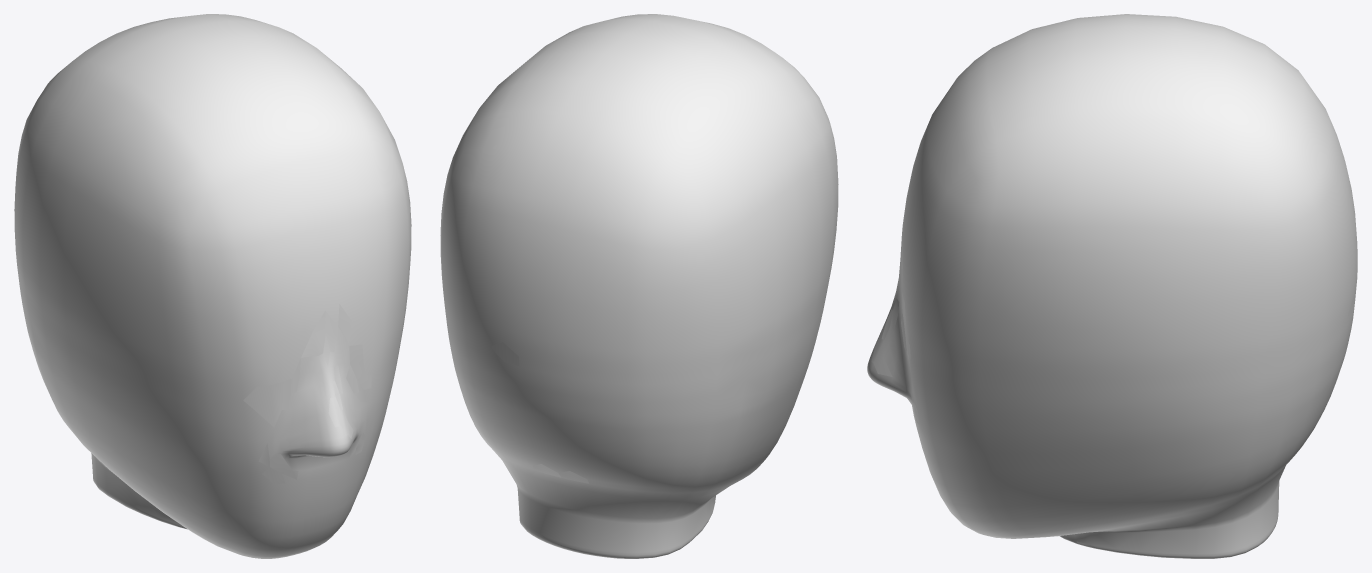
File: iskarna_lampa_stoowa_led_10492479.glb
The picture shows the model from 3 angles, left to right: view 1: azimuth 30°, elevation 25°; view 2: azimuth 150°, elevation 25°; view 3: azimuth 270°, elevation 25°; orthographic projection. The views are drawn at different scales.
Parts seen in each view (by area): view 1: iskarna_lampa_stoowa_led_10492479; view 2: iskarna_lampa_stoowa_led_10492479; view 3: iskarna_lampa_stoowa_led_10492479.
Boxes of the visible parts, x1,y1,x2,y2 form: iskarna_lampa_stoowa_led_10492479: [14, 14, 411, 558]; iskarna_lampa_stoowa_led_10492479: [440, 14, 838, 558]; iskarna_lampa_stoowa_led_10492479: [867, 14, 1357, 558].
Bounding box in the file's own units: 0.161 × 0.228 × 0.208.
Materials: 1 (1 with a texture image).
